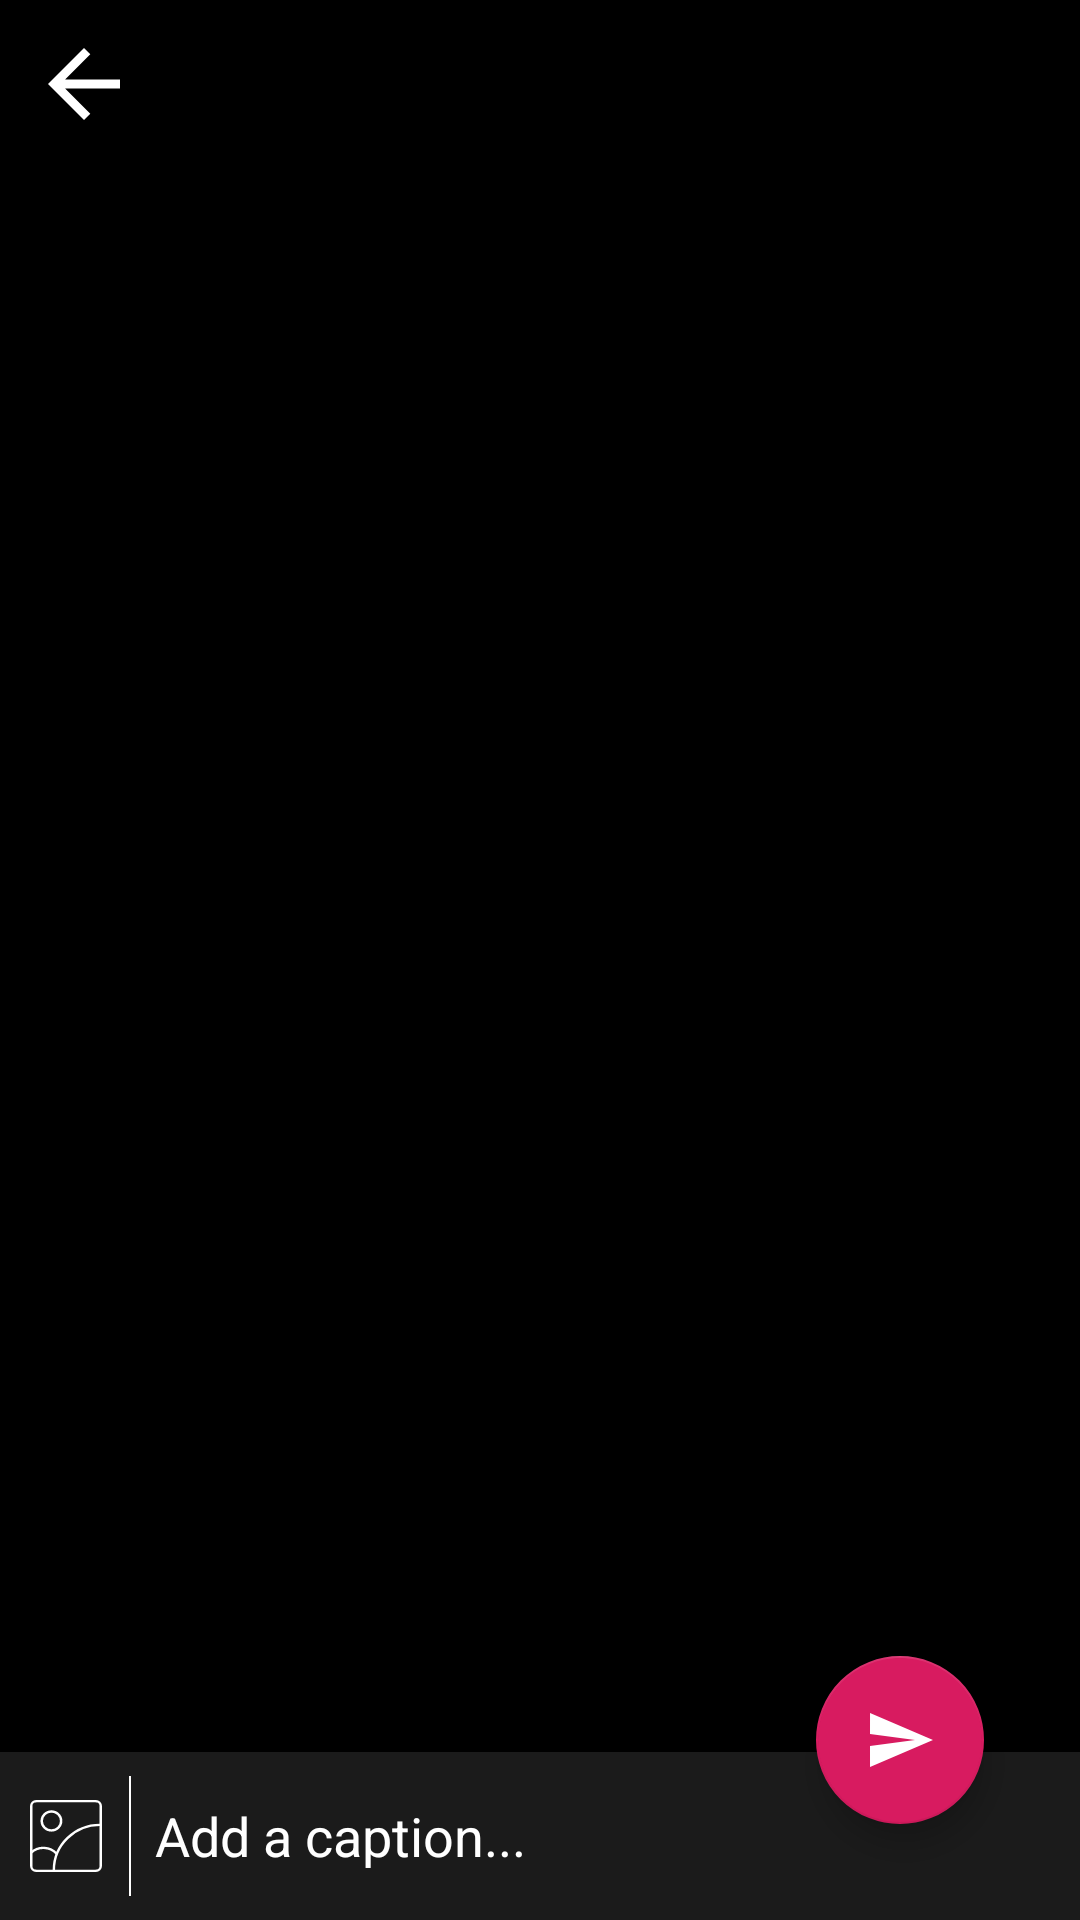

Where icons sit on this 1080*1920 app screen, as box(x1, y1, x2, y2):
back arrow: box(48, 48, 120, 120)
gallerycamera: box(30, 1800, 102, 1872)
send: box(816, 1656, 984, 1824)
